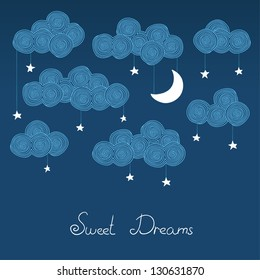cloud: (21, 65, 132, 112), (91, 15, 188, 67), (93, 118, 187, 170), (11, 9, 86, 59), (8, 117, 71, 159), (186, 87, 251, 127), (190, 16, 251, 56)
